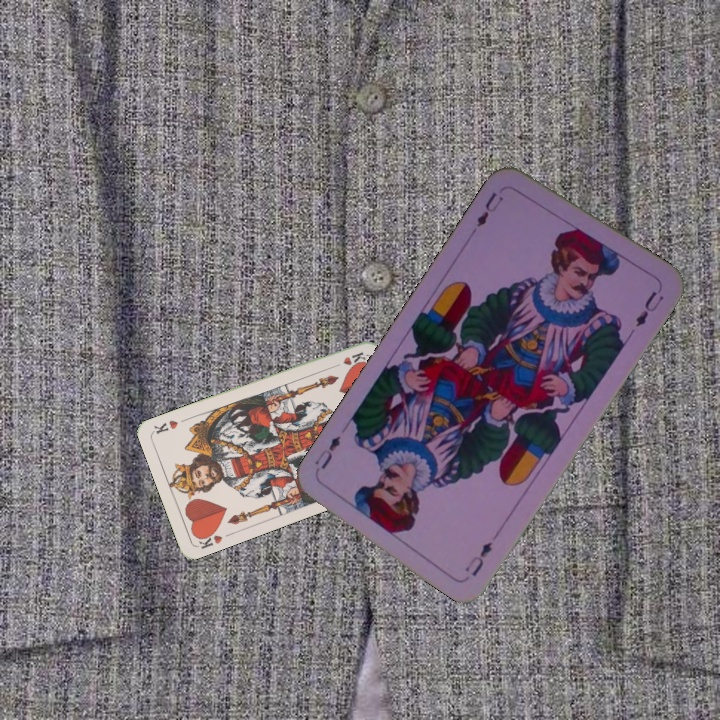EU: (461, 537, 496, 580), (472, 188, 507, 230)
HK: (328, 348, 368, 370), (192, 526, 225, 551)
